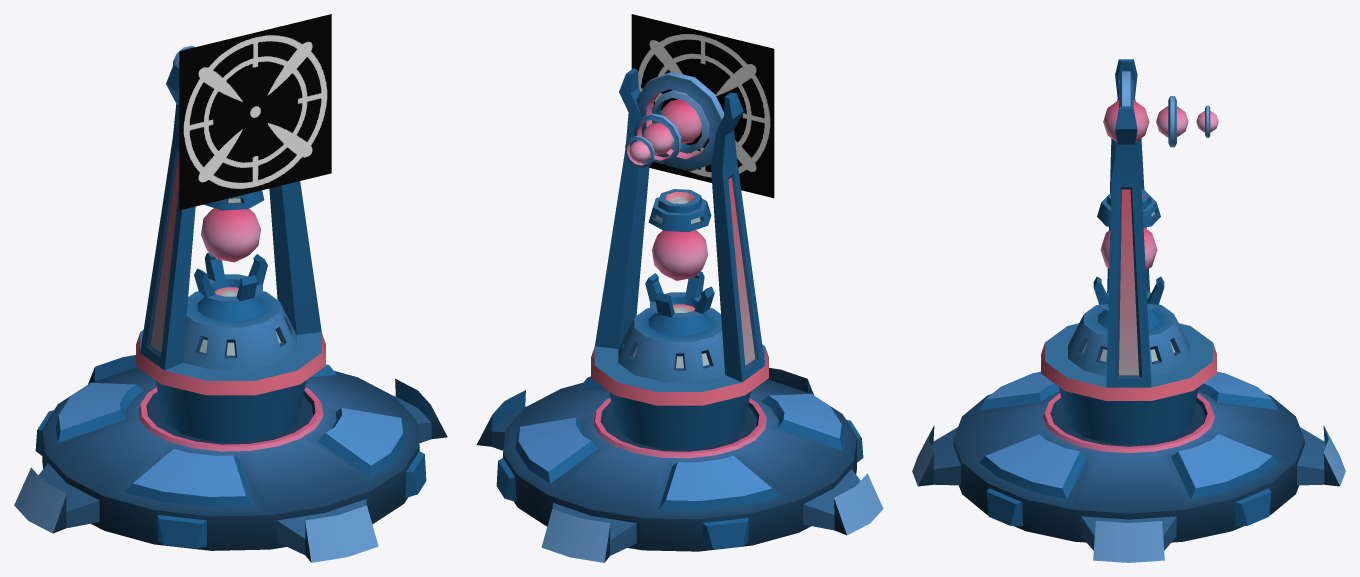
File: Laser_03.fbx
3 views of the same model, side by side, from view 1: azimuth 30°, elevation 25°; view 2: azimuth 150°, elevation 25°; view 3: azimuth 270°, elevation 25° (orthographic). The views are drawn at different scales.
Visible parts, largest first — view 1: Laser_Platform, Laser_03_Stage, Laser_Aim_03, Laser_03_Sphere_01, Laser_03_Stage_Detail_01, Laser_03_Stage_Detail_02; view 2: Laser_Platform, Laser_03_Stage, Laser_Aim_03, Laser_03_Sphere_02, Laser_03_Sphere_01, Laser_03_Stage_Detail_02, Laser_03_Stage_Detail_01; view 3: Laser_Platform, Laser_03_Stage, Laser_03_Sphere_02, Laser_03_Stage_Detail_02, Laser_03_Stage_Detail_01, Laser_03_Sphere_01.
Boxes of the visible parts, x1,y1,x2,y2 form: Laser_Platform: (14,355,447,562); Laser_03_Stage: (136,64,325,442); Laser_Aim_03: (179,14,331,210); Laser_03_Sphere_01: (201,208,260,262); Laser_03_Stage_Detail_01: (194,252,267,301); Laser_03_Stage_Detail_02: (204,190,264,210); Laser_Platform: (476,367,883,562); Laser_03_Stage: (591,68,768,449); Laser_Aim_03: (631,14,774,198); Laser_03_Sphere_02: (625,71,723,171); Laser_03_Sphere_01: (651,230,708,280); Laser_03_Stage_Detail_02: (648,189,711,232); Laser_03_Stage_Detail_01: (645,271,714,317); Laser_Platform: (912,371,1345,562); Laser_03_Stage: (1041,59,1216,444); Laser_03_Sphere_02: (1103,71,1218,147); Laser_03_Stage_Detail_02: (1097,189,1160,227); Laser_03_Stage_Detail_01: (1093,276,1164,311); Laser_03_Sphere_01: (1100,227,1157,270).
Size of the model in its own units: 2.47 by 2.66 by 2.47.
